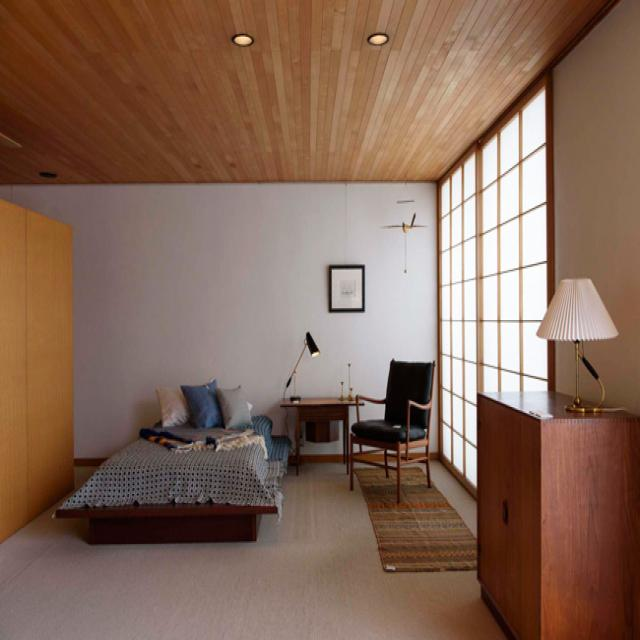bed vintage: (52, 376, 292, 549)
